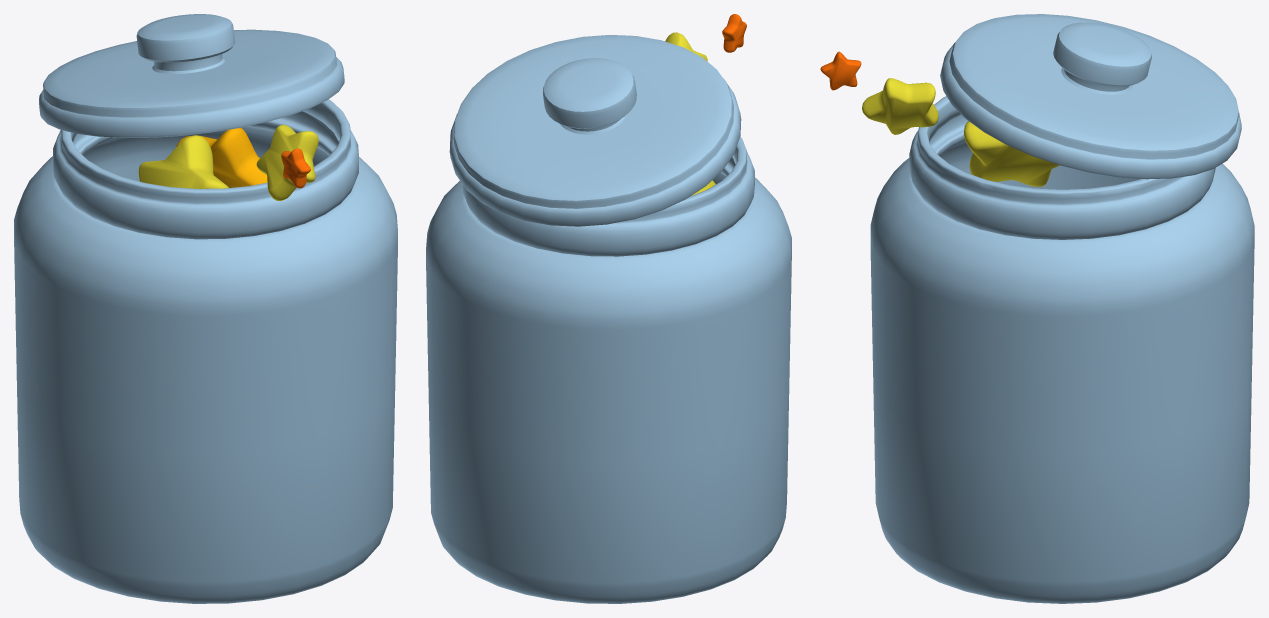
File: star_jar.glb
The picture shows the model from 3 angles, left to right: view 1: azimuth 30°, elevation 25°; view 2: azimuth 150°, elevation 25°; view 3: azimuth 270°, elevation 25°; orthographic projection. The views are drawn at different scales.
Visible parts, largest first — view 1: jar, lid, star hue3 4, star hue4 3, star hue2 1.001, star hue2 1.002; view 2: jar, lid, star hue2 1.002; view 3: jar, lid, star hue3 4, star hue2 1.001, star hue2 1.002.
Boxes of the visible parts, left/top/right/bottom form: jar: left=14, top=99, right=397, bottom=603; lid: left=39, top=14, right=344, bottom=137; star hue3 4: left=138, top=135, right=228, bottom=188; star hue4 3: left=176, top=127, right=267, bottom=187; star hue2 1.001: left=256, top=124, right=318, bottom=201; star hue2 1.002: left=281, top=148, right=310, bottom=188; jar: left=426, top=137, right=791, bottom=603; lid: left=449, top=35, right=741, bottom=226; star hue2 1.002: left=722, top=14, right=746, bottom=52; jar: left=870, top=96, right=1254, bottom=603; lid: left=940, top=14, right=1241, bottom=179; star hue3 4: left=963, top=121, right=1059, bottom=186; star hue2 1.001: left=862, top=78, right=938, bottom=134; star hue2 1.002: left=820, top=51, right=861, bottom=90.
Bounding box in the file's own units: 4.17 × 5.99 × 4.72.
